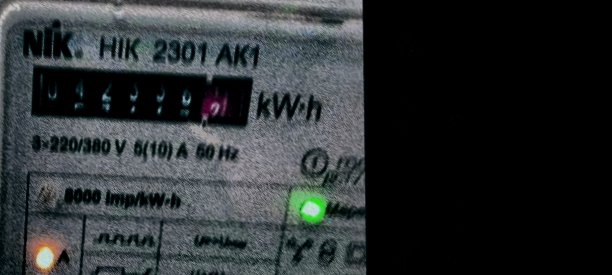0: (44, 75, 58, 104)
2: (96, 76, 115, 104)
3: (123, 76, 140, 105), (152, 77, 167, 105)
4: (70, 76, 87, 103)
6: (178, 82, 193, 110)
screen: (19, 55, 260, 140)
